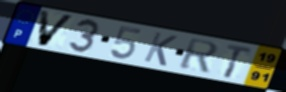3: (68, 18, 102, 53)
5: (109, 25, 144, 61)
K: (141, 31, 180, 68)
R: (177, 37, 221, 74)
T: (222, 43, 254, 80)
V: (37, 9, 78, 48)
